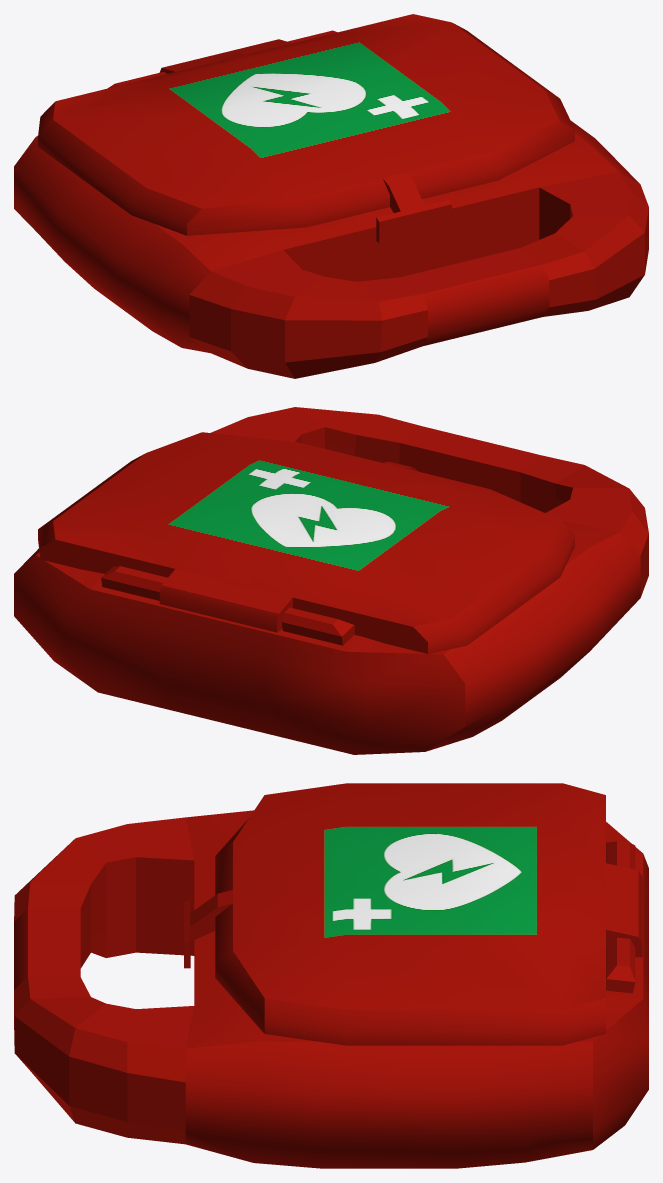
File: AEDwithtexture.obj
3 renders of one model, top to bottom at view 1: azimuth 30°, elevation 25°; view 2: azimuth 150°, elevation 25°; view 3: azimuth 270°, elevation 25°, orthographic. The views are drawn at different scales.
Parts seen in each view (by area): view 1: Object002, Box001; view 2: Object002, Box001; view 3: Object002, Box001.
Boxes of the visible parts, x1,y1,x2,y2 form: Object002: (14,30,648,378); Box001: (38,14,574,244); Object002: (14,407,648,754); Box001: (38,432,574,653); Object002: (14,810,648,1168); Box001: (184,783,642,1045).
Size of the model in its own units: 78.75 by 23.32 by 77.91.
